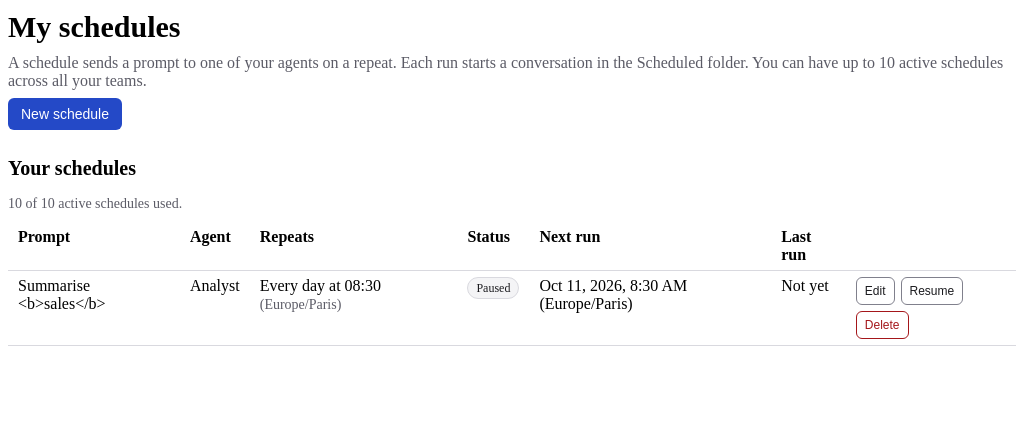
Scenario: Schedules page (KOBE-175) › shows the server's cap-reached message (ac-2)
Click the button with aria-label "Resume schedule Summarise <b>sales</b>". click: click(932, 290)
box: [900, 276, 963, 304]
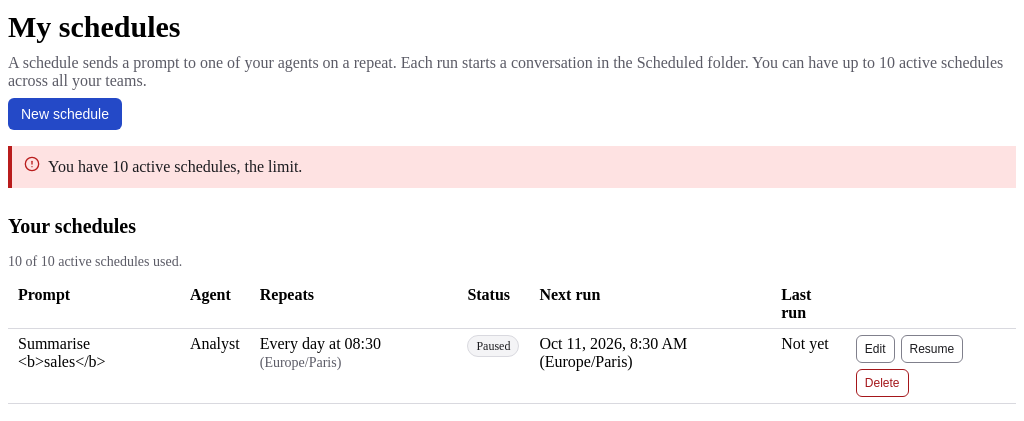
Now the message reads "You have 10 active schedules, the limit.", box [48, 158, 302, 174]
